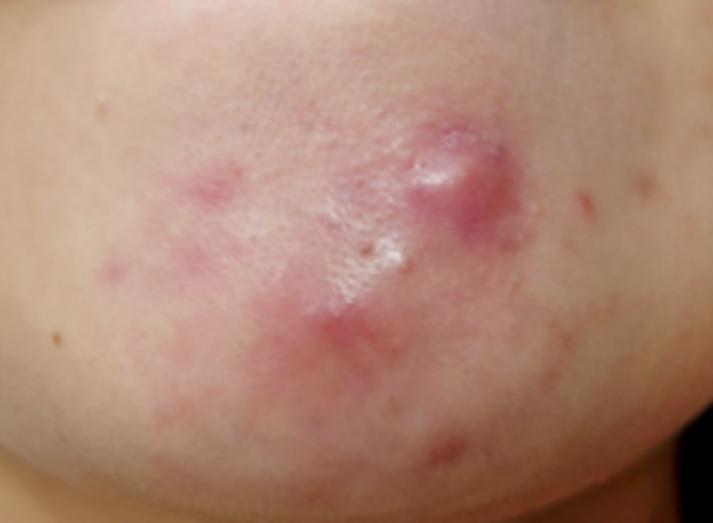cystic: (404, 128, 522, 236), (294, 276, 384, 371)
purulent: (385, 247, 428, 286)
